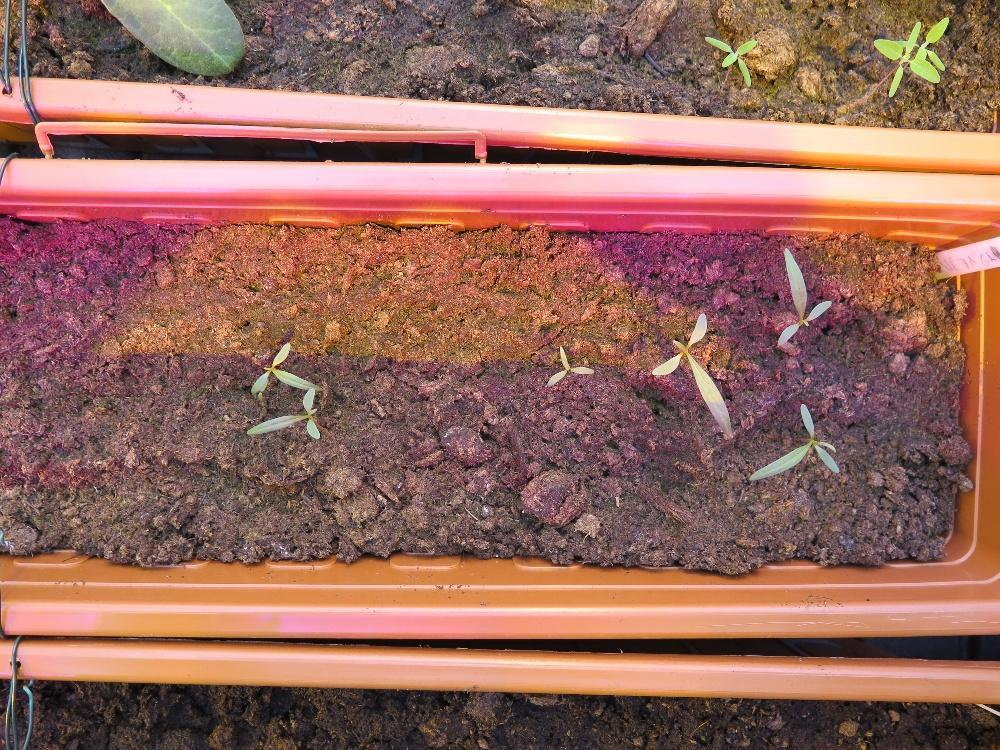weed: (649, 307, 730, 436), (747, 399, 840, 481), (774, 246, 833, 346), (702, 32, 758, 89), (543, 345, 594, 388)
